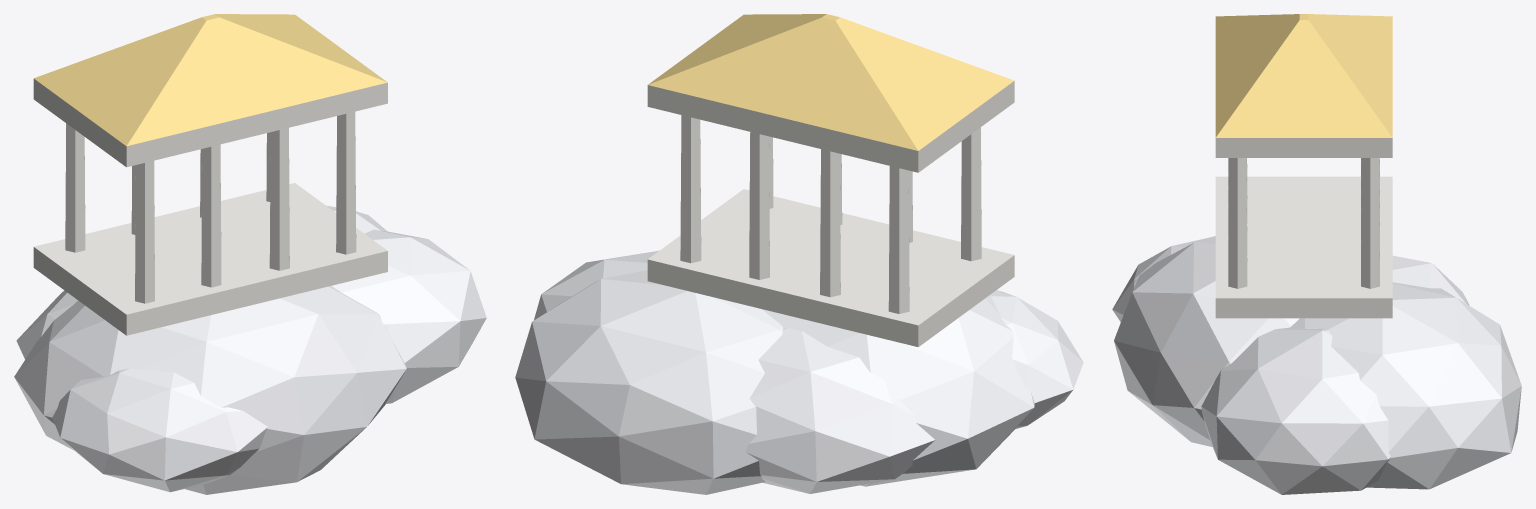
Rendered from Island1.obj.
3 views of the same model, side by side, from view 1: azimuth 30°, elevation 25°; view 2: azimuth 150°, elevation 25°; view 3: azimuth 270°, elevation 25° (orthographic). The views are drawn at different scales.
Parts seen in each view (by area): view 1: Island1; view 2: Island1; view 3: Island1.
Part boxes in pixels (x1,y1,x2,y2): Island1: [14, 14, 486, 494]; Island1: [515, 14, 1083, 494]; Island1: [1112, 14, 1521, 494].
Bounding box in the file's own units: 2.27 × 2.07 × 1.85.
1 material, 1 textured.
